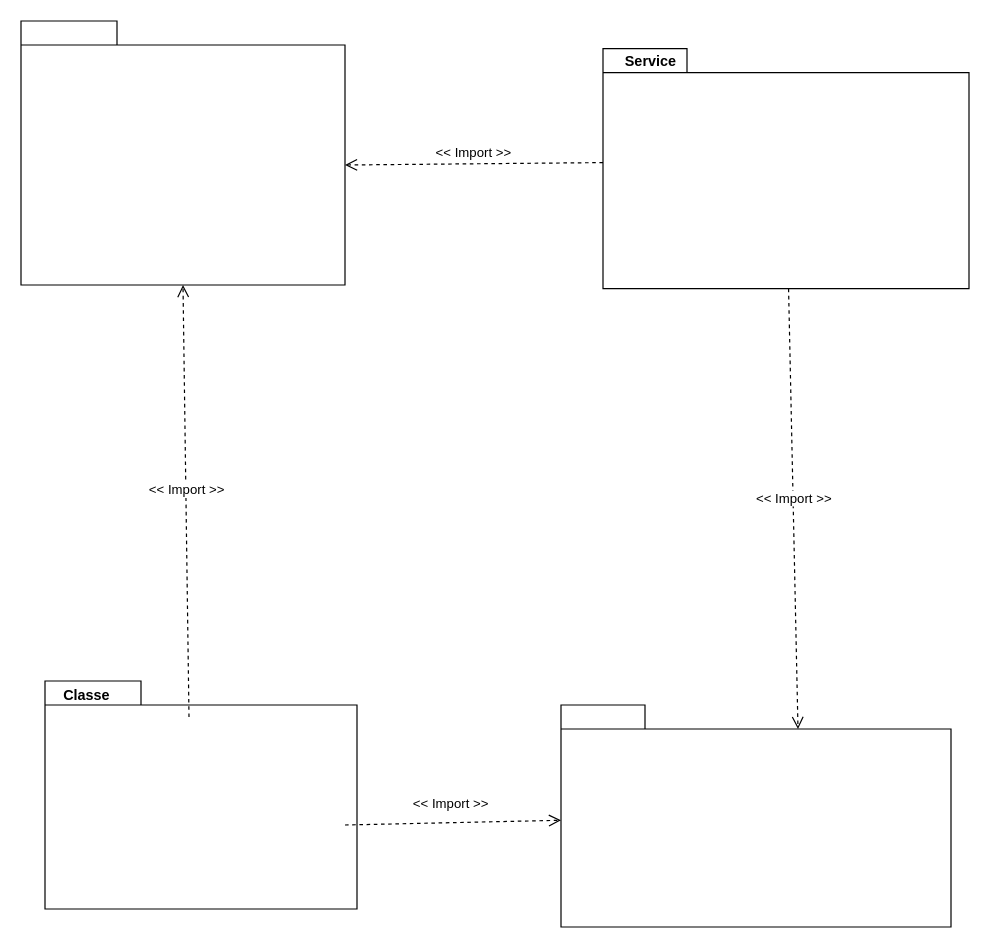
This 990x948 diagram has some shape labels left out. The centre of each missing label's shape, as x and y in pixels:
DAO: (x=755, y=815)
Webservice: (x=182, y=152)
